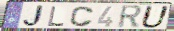4: (97, 5, 115, 28)
C: (69, 6, 95, 28)
J: (22, 5, 47, 28)
L: (47, 6, 66, 27)
R: (116, 5, 144, 30)
U: (139, 5, 171, 29)
